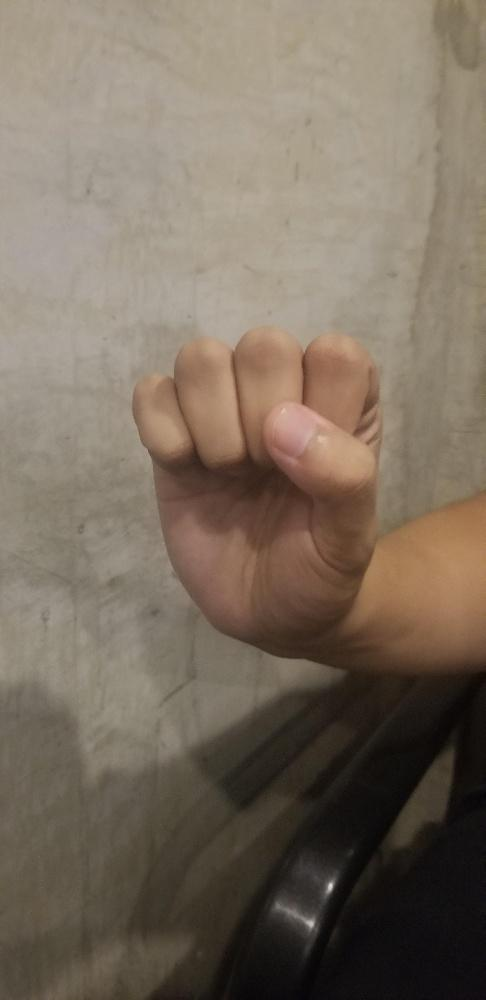s: (132, 326, 381, 636)
